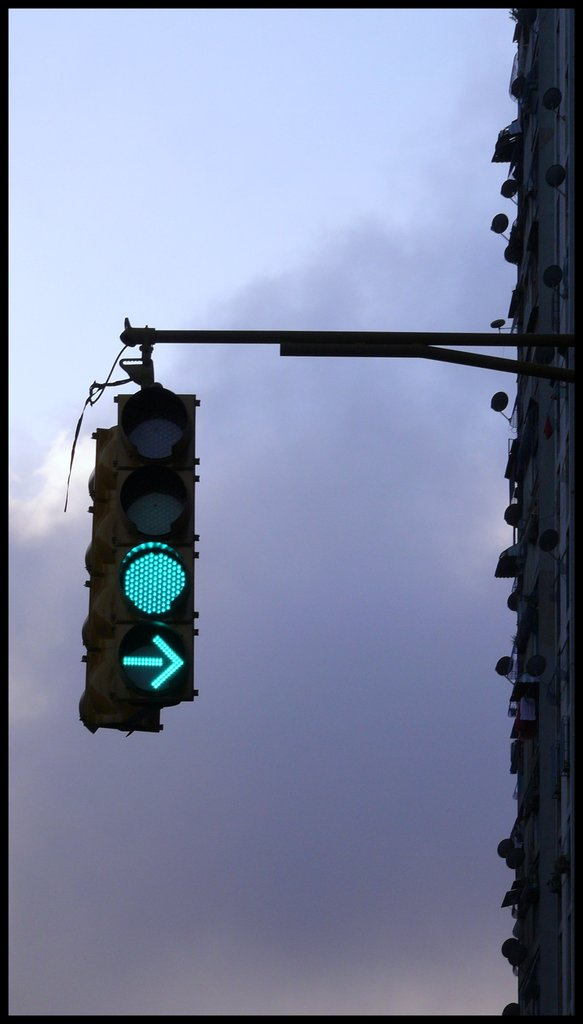green_light: (116, 396, 196, 619)
